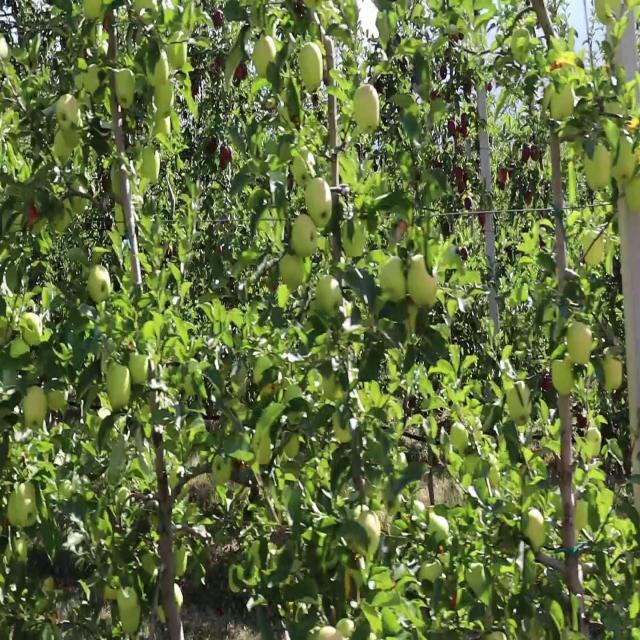apple: (408, 255, 439, 308), (584, 142, 612, 192), (352, 85, 380, 135), (308, 177, 332, 228), (108, 362, 132, 412), (300, 42, 323, 92), (613, 142, 640, 183), (24, 383, 48, 428), (548, 85, 576, 123), (316, 277, 343, 316), (292, 213, 316, 256), (280, 255, 307, 292), (568, 327, 593, 366), (524, 511, 547, 553), (56, 127, 80, 167), (508, 383, 532, 423), (256, 35, 278, 76), (116, 71, 136, 112), (88, 270, 112, 304), (56, 92, 80, 126), (148, 49, 169, 87), (604, 355, 624, 393), (332, 412, 352, 448), (280, 255, 300, 290), (148, 56, 169, 89), (364, 511, 381, 548), (624, 177, 640, 215), (344, 561, 360, 599), (132, 355, 151, 386), (156, 85, 175, 114), (280, 270, 300, 293), (588, 241, 605, 268), (172, 42, 187, 71), (48, 391, 67, 412), (396, 220, 410, 247), (28, 199, 41, 228), (156, 120, 171, 142), (316, 35, 329, 60), (596, 7, 612, 27), (532, 7, 548, 27), (104, 391, 119, 412), (456, 113, 469, 137), (324, 63, 335, 87), (220, 149, 232, 169), (104, 14, 116, 34), (304, 255, 312, 283), (236, 63, 248, 80), (500, 170, 508, 192), (452, 590, 460, 612), (296, 1, 306, 18), (212, 14, 224, 28), (544, 376, 554, 391), (208, 142, 218, 156), (448, 120, 457, 135), (524, 149, 531, 164), (532, 149, 539, 164), (480, 213, 487, 228), (296, 7, 304, 18), (580, 419, 588, 428)
